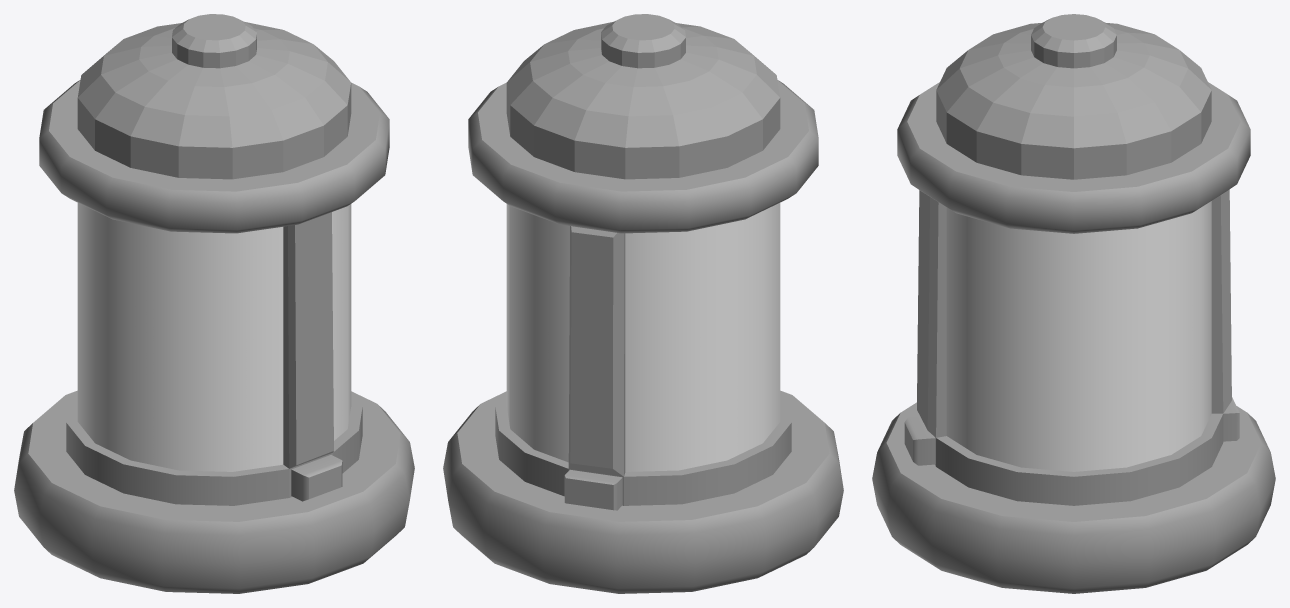
The model's file is bin.fbx.
3 views of the same model, side by side, from view 1: azimuth 30°, elevation 25°; view 2: azimuth 150°, elevation 25°; view 3: azimuth 270°, elevation 25° (orthographic).
Parts seen in each view (by area): view 1: bin_01, bin_glass; view 2: bin_01, bin_glass; view 3: bin_01, bin_glass.
Part boxes in pixels (x1,y1,x2,y2): bin_01: (14, 14, 414, 593); bin_glass: (77, 203, 351, 471); bin_01: (443, 14, 843, 593); bin_glass: (506, 203, 780, 471); bin_01: (872, 14, 1275, 593); bin_glass: (946, 201, 1211, 471).
Bounding box in the file's own units: 234 × 312 × 234.
Materials: 2 (1 with a texture image).
